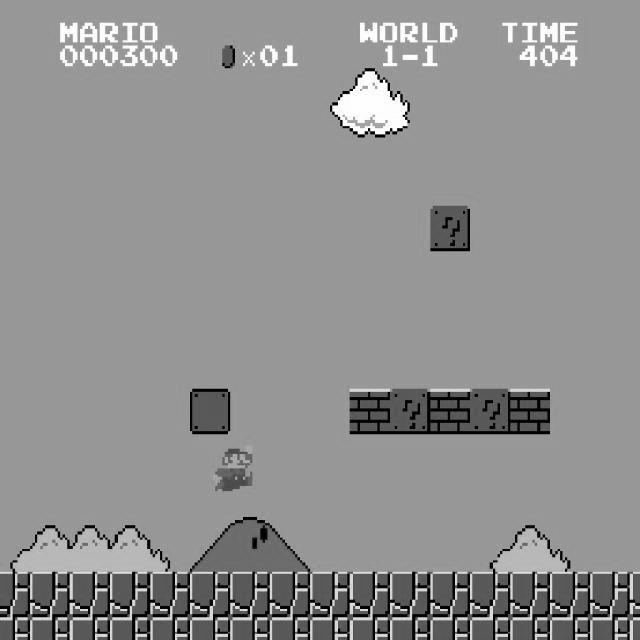1- brick_block: (350, 388, 390, 434), (430, 388, 470, 434), (510, 388, 550, 434)
11- little_mario: (210, 443, 253, 492)
13- mystery_block: (390, 388, 430, 434), (470, 388, 510, 434), (430, 206, 470, 251)
17- undestructible_block: (30, 572, 70, 618), (70, 572, 110, 618), (110, 572, 150, 618), (150, 572, 190, 618), (190, 572, 230, 618), (230, 572, 270, 618), (270, 572, 310, 618), (310, 572, 350, 618), (350, 572, 390, 618), (390, 572, 430, 618), (430, 572, 470, 618), (470, 572, 510, 618), (510, 572, 550, 618), (550, 572, 590, 618), (590, 572, 630, 618), (0, 572, 30, 618), (30, 617, 70, 640), (70, 617, 110, 640), (110, 617, 150, 640), (150, 617, 190, 640), (190, 617, 230, 640), (230, 617, 270, 640), (270, 617, 310, 640), (310, 617, 350, 640), (350, 617, 390, 640), (390, 617, 430, 640), (430, 617, 470, 640), (470, 617, 510, 640), (510, 617, 550, 640), (550, 617, 590, 640), (590, 617, 630, 640), (0, 617, 30, 640), (629, 571, 640, 617), (629, 617, 640, 639)
3- empty_block: (190, 388, 230, 434)
